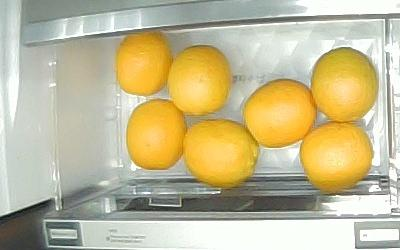orange: (183, 118, 259, 189), (243, 78, 316, 148), (300, 123, 373, 193), (311, 47, 379, 122), (167, 45, 233, 116), (126, 98, 187, 170), (115, 29, 172, 96)
